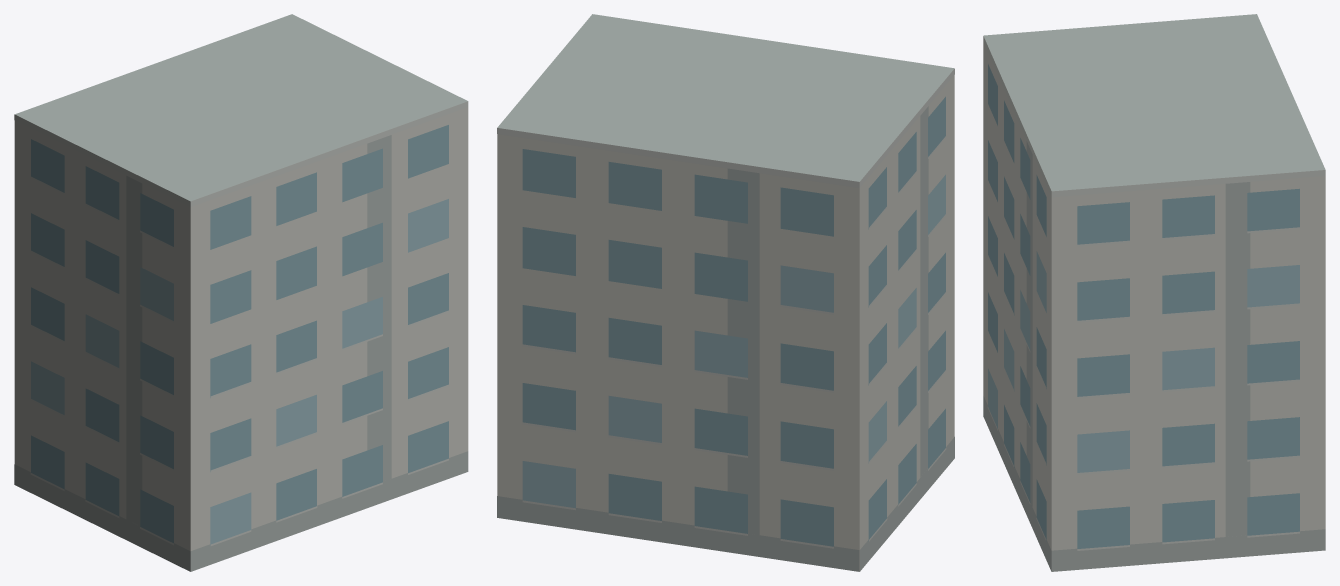
The model's file is residential-e54e4bbd-4fea-48ed-84c3-1b17d9ccf2e7.glb.
3 renders of one model, left to right at view 1: azimuth 30°, elevation 25°; view 2: azimuth 150°, elevation 25°; view 3: azimuth 270°, elevation 25°, orthographic. The views are drawn at different scales.
Visible parts, largest first — view 1: residential-e54e4bbd-4fea-48ed-84c3-1b17d9ccf2e7.tmp; view 2: residential-e54e4bbd-4fea-48ed-84c3-1b17d9ccf2e7.tmp; view 3: residential-e54e4bbd-4fea-48ed-84c3-1b17d9ccf2e7.tmp.
Boxes of the visible parts, box(x1,y1,x2,y2) form: residential-e54e4bbd-4fea-48ed-84c3-1b17d9ccf2e7.tmp: box(14, 14, 468, 571); residential-e54e4bbd-4fea-48ed-84c3-1b17d9ccf2e7.tmp: box(497, 14, 954, 571); residential-e54e4bbd-4fea-48ed-84c3-1b17d9ccf2e7.tmp: box(983, 14, 1325, 571).
Size of the model in its own units: 15.25 by 15.25 by 12.45.
